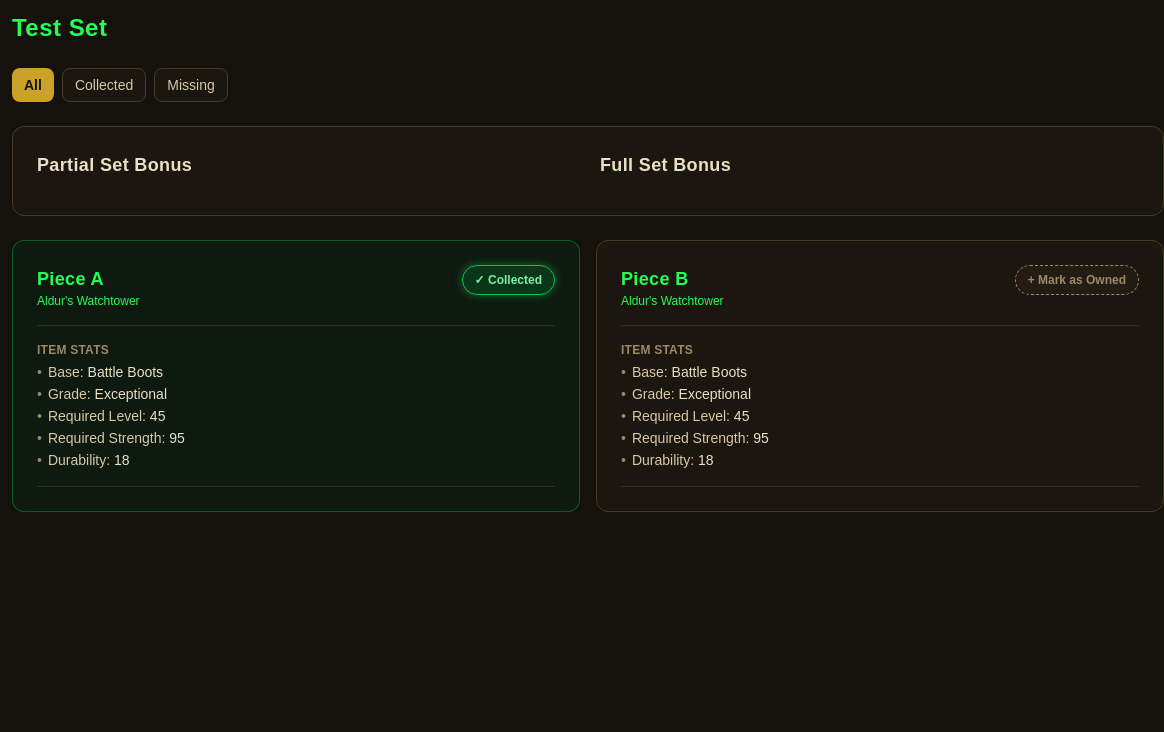
it: SetGroupDetail — collected/missing filter › filters pieces to only owned ones when "Collected" is clicked
The width and height of the screenshot is (1164, 732).
What coordinates should you click on to do the following:
click the button "Collected"
I would click on:
 (104, 85)
Its box is [62, 68, 146, 102].
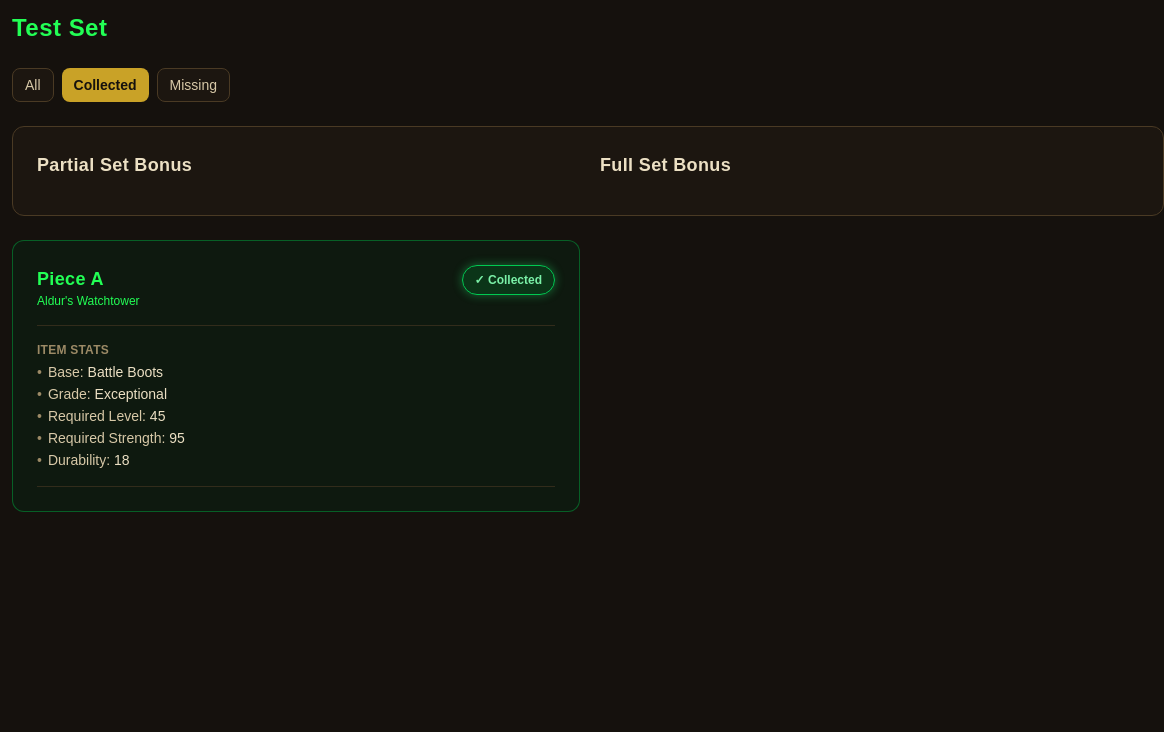
Expected: the heading "Piece A" is shown, [37, 269, 104, 289]
Expected: the heading "Piece B" is gone
